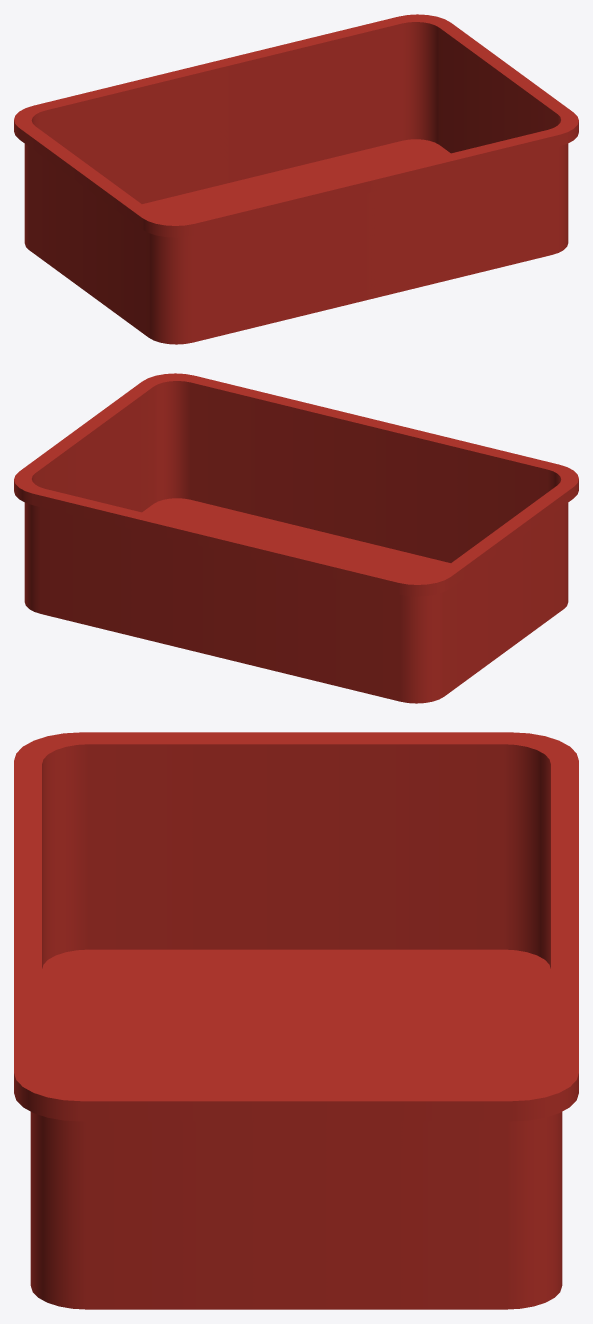
Rendered from Crate.glb.
3 views of the same model, one above another, from view 1: azimuth 30°, elevation 25°; view 2: azimuth 150°, elevation 25°; view 3: azimuth 270°, elevation 25° (orthographic). The views are drawn at different scales.
Parts seen in each view (by area): view 1: Cr_Wall, Cr_Lip, Cr_Floor; view 2: Cr_Wall, Cr_Lip, Cr_Floor; view 3: Cr_Wall, Cr_Floor, Cr_Lip.
Boxes of the visible parts, box(x1,y1,x2,y2) form: Cr_Wall: box(24, 19, 568, 344); Cr_Lip: box(14, 14, 578, 237); Cr_Floor: box(142, 139, 450, 218); Cr_Wall: box(24, 378, 568, 703); Cr_Lip: box(14, 373, 578, 596); Cr_Floor: box(142, 498, 450, 577); Cr_Wall: box(30, 739, 562, 1309); Cr_Floor: box(42, 949, 550, 1089); Cr_Lip: box(14, 732, 578, 1121).
Size of the model in its own units: 0.312 by 0.085 by 0.202.
